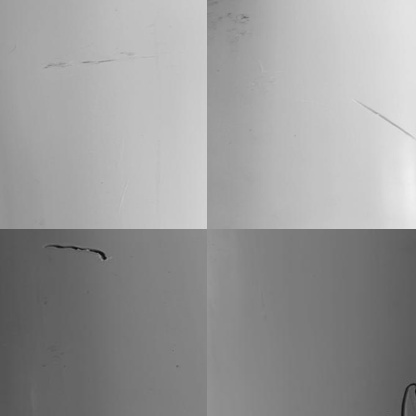fengxi: (47, 242, 107, 263), (400, 375, 416, 416)
sunshang: (355, 92, 413, 140)
